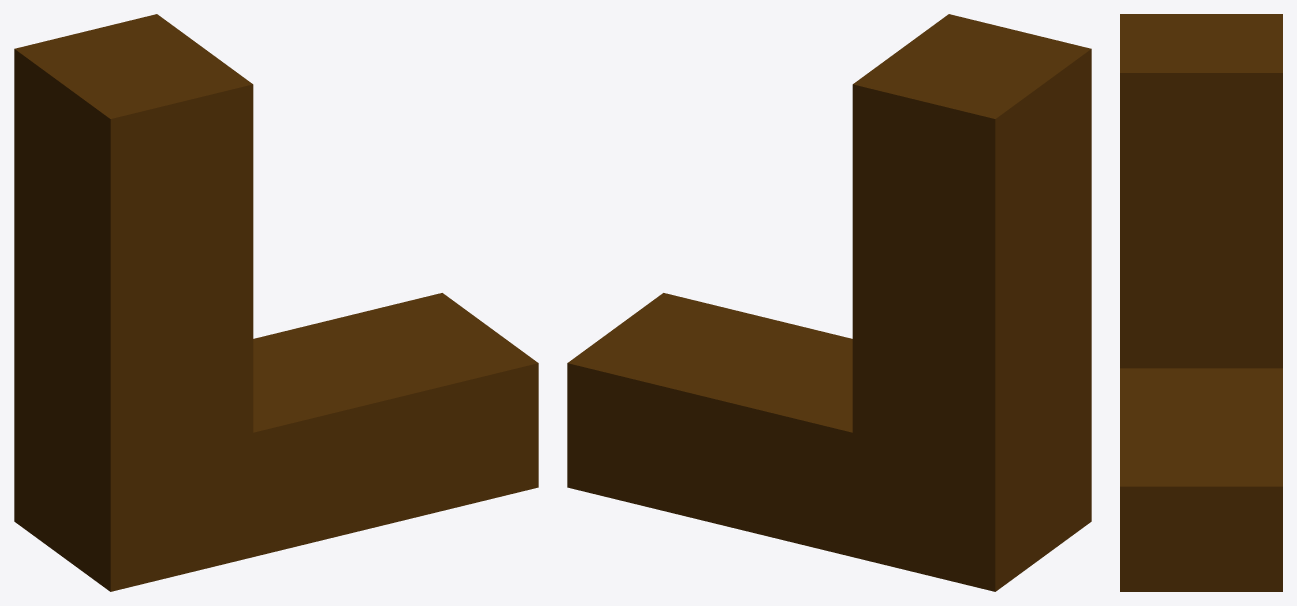
Rendered from RightHorn.fbx.
3 views of the same model, side by side, from view 1: azimuth 30°, elevation 25°; view 2: azimuth 150°, elevation 25°; view 3: azimuth 270°, elevation 25° (orthographic). The views are drawn at different scales.
Parts seen in each view (by area): view 1: RightHorn; view 2: RightHorn; view 3: RightHorn.
Boxes of the visible parts, left/top/right/bottom form: RightHorn: left=14, top=14, right=538, bottom=591; RightHorn: left=567, top=14, right=1091, bottom=591; RightHorn: left=1120, top=14, right=1282, bottom=591.
Bounding box in the file's own units: 18 × 19 × 7.
